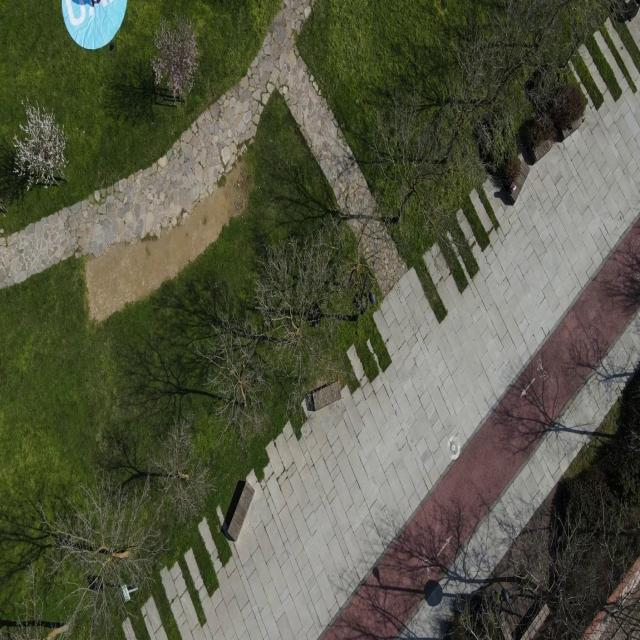p3rson: (89, 0, 100, 6)
